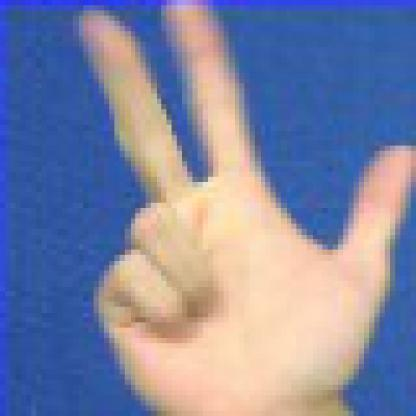eight: (52, 0, 411, 411)
